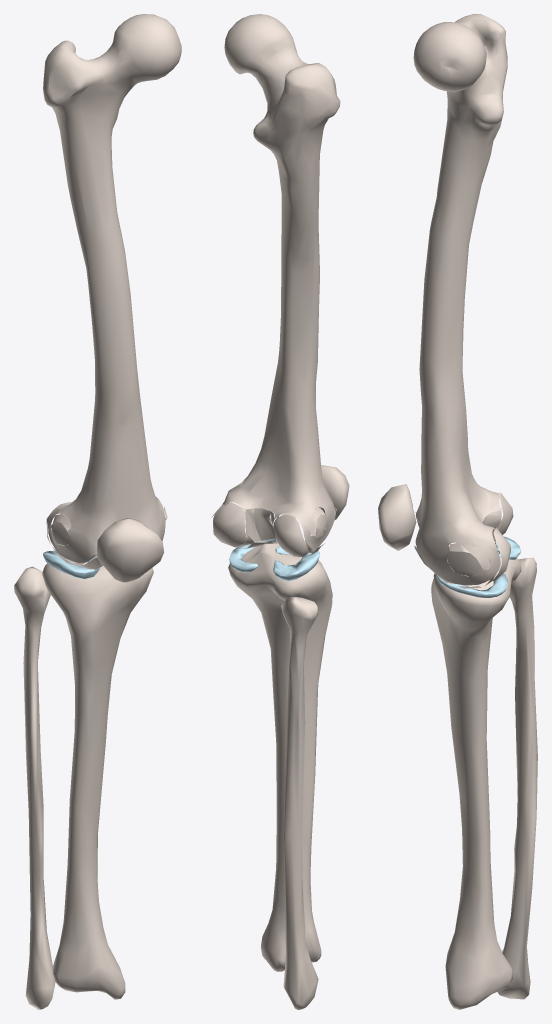
The model's file is vh_f_knee_r.glb.
3 views of the same model, side by side, from view 1: azimuth 30°, elevation 25°; view 2: azimuth 150°, elevation 25°; view 3: azimuth 270°, elevation 25° (orthographic). The views are drawn at different scales.
Visible parts, largest first — view 1: VH_F_femur_R, VH_F_tibia_R, VH_F_fibula_R, VH_F_patella_R, VH_F_meniscus_R; view 2: VH_F_femur_R, VH_F_tibia_R, VH_F_fibula_R, VH_F_meniscus_R, VH_F_medial_condyle_of_right_femur_inf, VH_F_lateral_condyle_of_femur_inf_R, VH_F_patella_R, VH_F_posterior_cruciate_enthesis_R; view 3: VH_F_femur_R, VH_F_tibia_R, VH_F_fibula_R, VH_F_patella_R, VH_F_meniscus_R, VH_F_medial_perichondular_surface_R, VH_F_medial_condyle_of_right_femur_inf, VH_F_medial_epicondylar_enthesis_R.
Boxes of the visible parts, x1,y1,x2,y2 form: VH_F_femur_R: (43,14,181,562); VH_F_tibia_R: (42,558,153,999); VH_F_fibula_R: (14,566,55,1009); VH_F_patella_R: (96,518,164,582); VH_F_meniscus_R: (43,550,147,578); VH_F_femur_R: (223,14,340,549); VH_F_tibia_R: (228,543,332,971); VH_F_fibula_R: (281,597,318,1009); VH_F_meniscus_R: (229,538,319,580); VH_F_medial_condyle_of_right_femur_inf: (213,503,247,547); VH_F_lateral_condyle_of_femur_inf_R: (273,514,309,556); VH_F_patella_R: (315,465,349,520); VH_F_posterior_cruciate_enthesis_R: (253,508,275,540); VH_F_femur_R: (413,14,507,585); VH_F_tibia_R: (431,552,521,1009); VH_F_fibula_R: (497,558,537,999); VH_F_patella_R: (378,484,416,550); VH_F_meniscus_R: (435,536,520,597); VH_F_medial_perichondular_surface_R: (446,551,482,575); VH_F_medial_condyle_of_right_femur_inf: (492,527,510,581); VH_F_medial_epicondylar_enthesis_R: (449,543,489,569).
Bounding box in the file's own units: 0.1014 × 0.772 × 0.1105.
